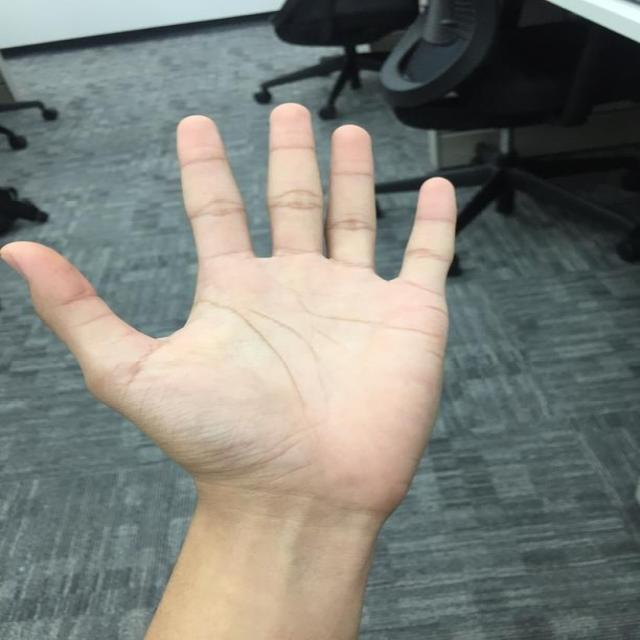hand: (6, 96, 459, 519)
